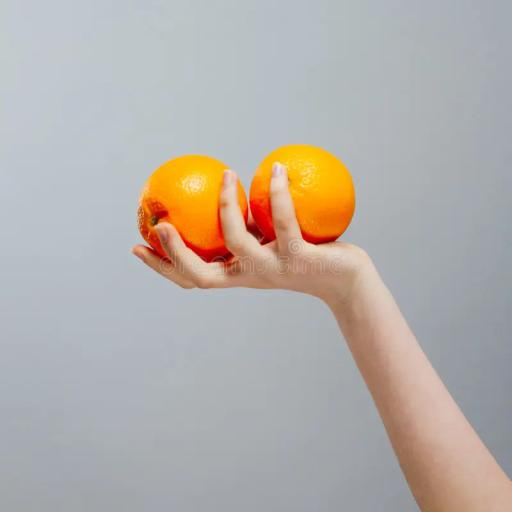orange: (250, 145, 355, 243), (138, 155, 228, 261)
